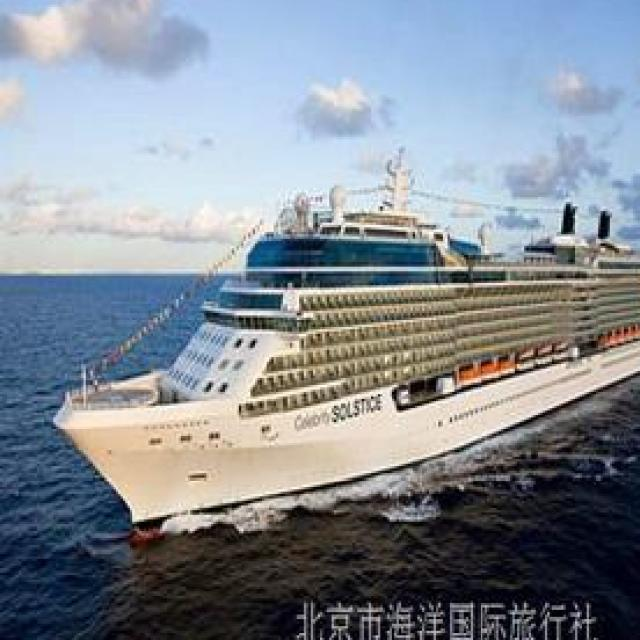passenger ship: (55, 169, 640, 519)
